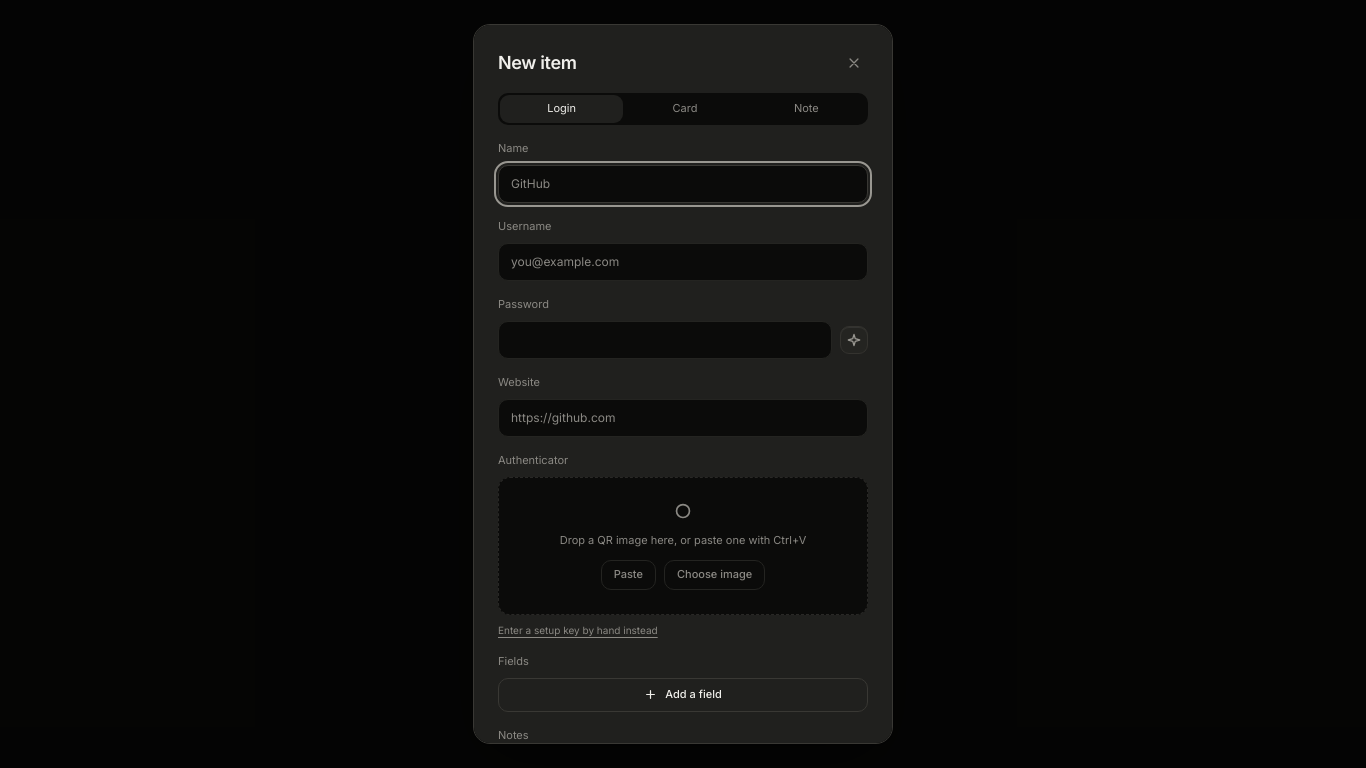
it: creating an item › disables Save while a save is already in flight
Type "Something" into the field labelled "Name" at [683, 184], box [498,165,868,203]
(page scrolled)
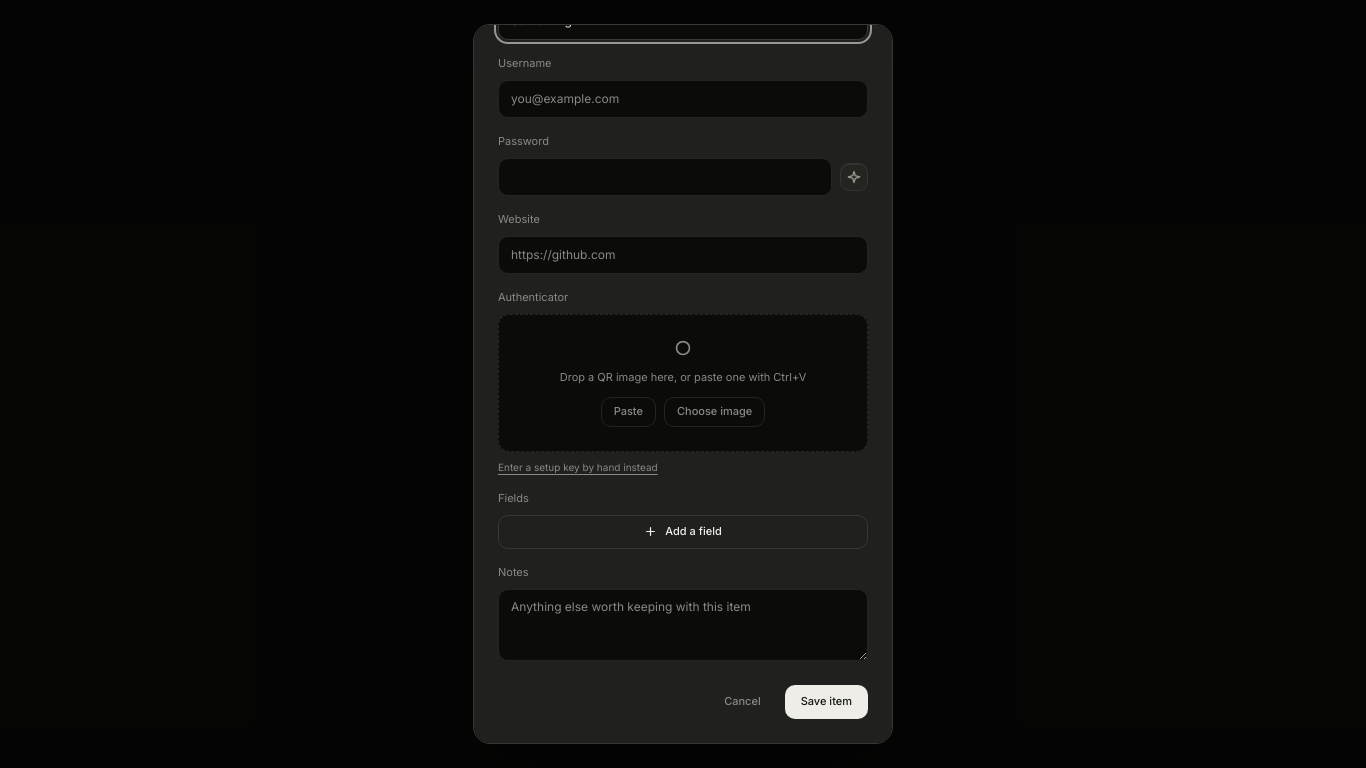
Click the button "Save item" at [826, 702], box [785,684,868,718]
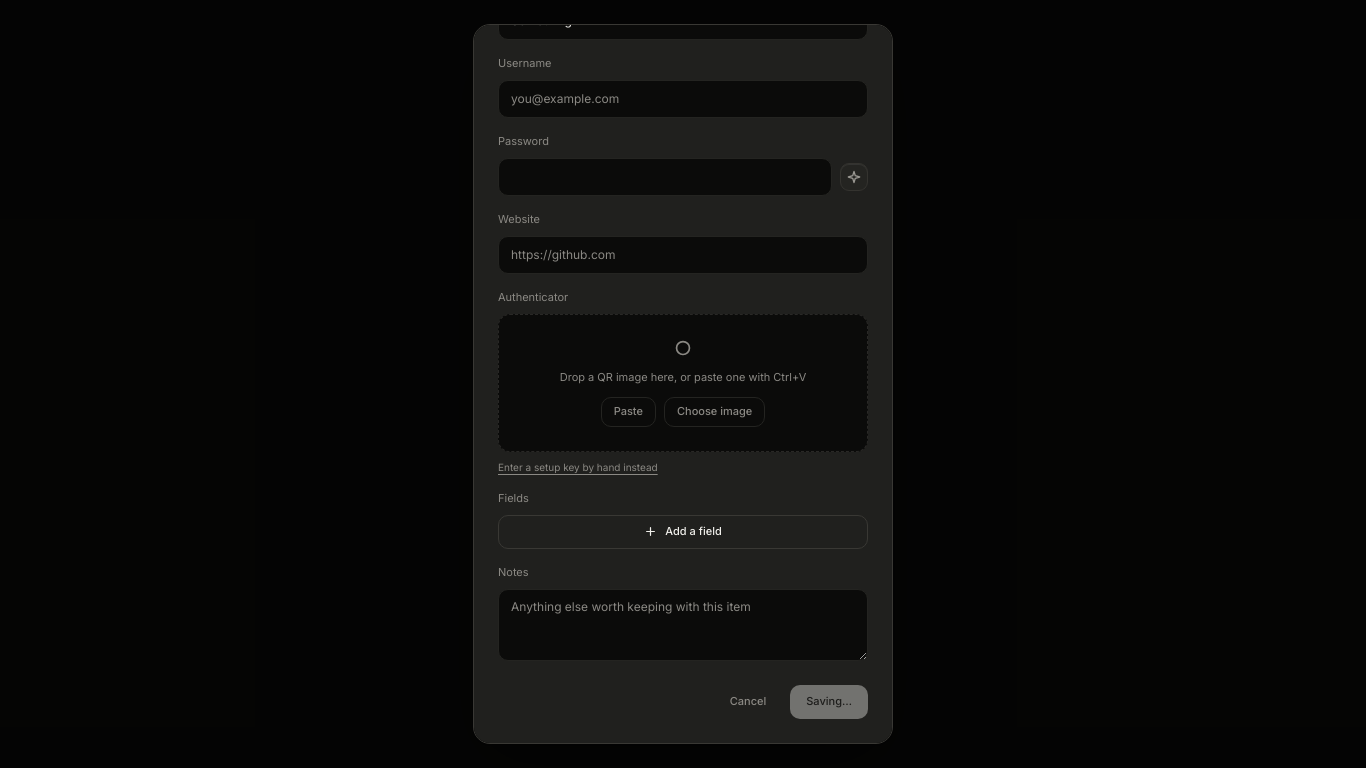
Expected: the button "Saving…" is disabled, [790,684,868,718]
